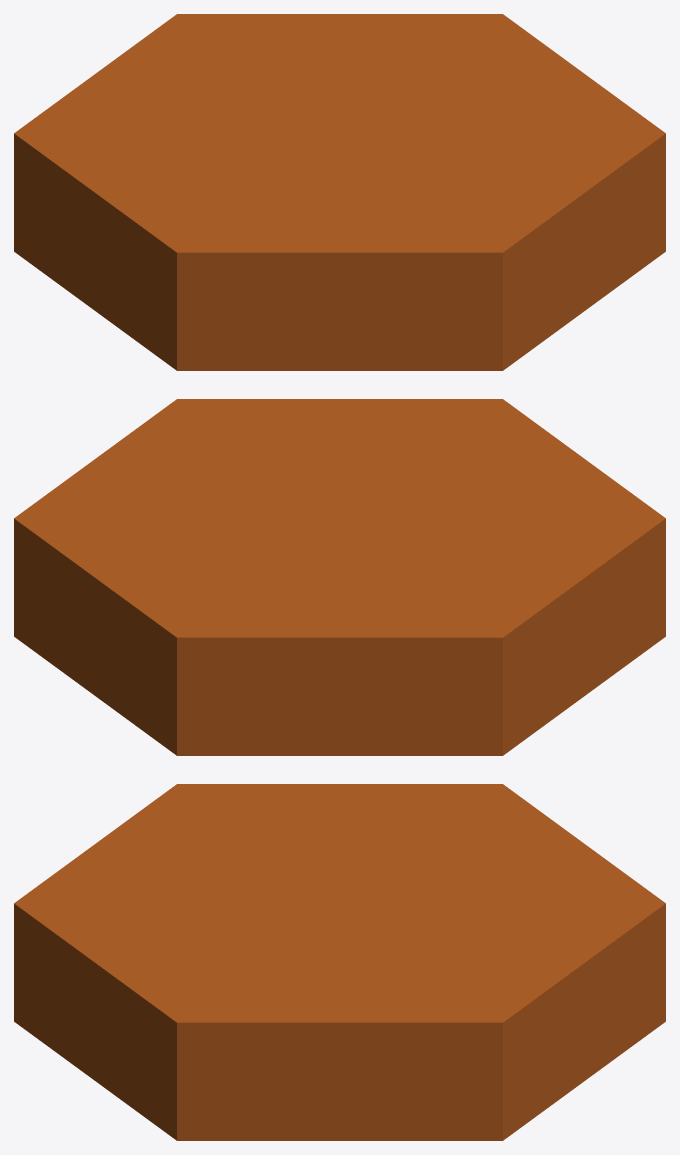
Rendered from TileHex_05.fbx.
3 renders of one model, top to bottom at view 1: azimuth 30°, elevation 25°; view 2: azimuth 150°, elevation 25°; view 3: azimuth 270°, elevation 25°, orthographic.
Visible parts, largest first — view 1: TileHex_05; view 2: TileHex_05; view 3: TileHex_05.
Boxes of the visible parts, x1,y1,x2,y2 form: TileHex_05: [14, 14, 665, 370]; TileHex_05: [14, 399, 665, 755]; TileHex_05: [14, 784, 665, 1140].
Size of the model in its own units: 433 by 100 by 500.
